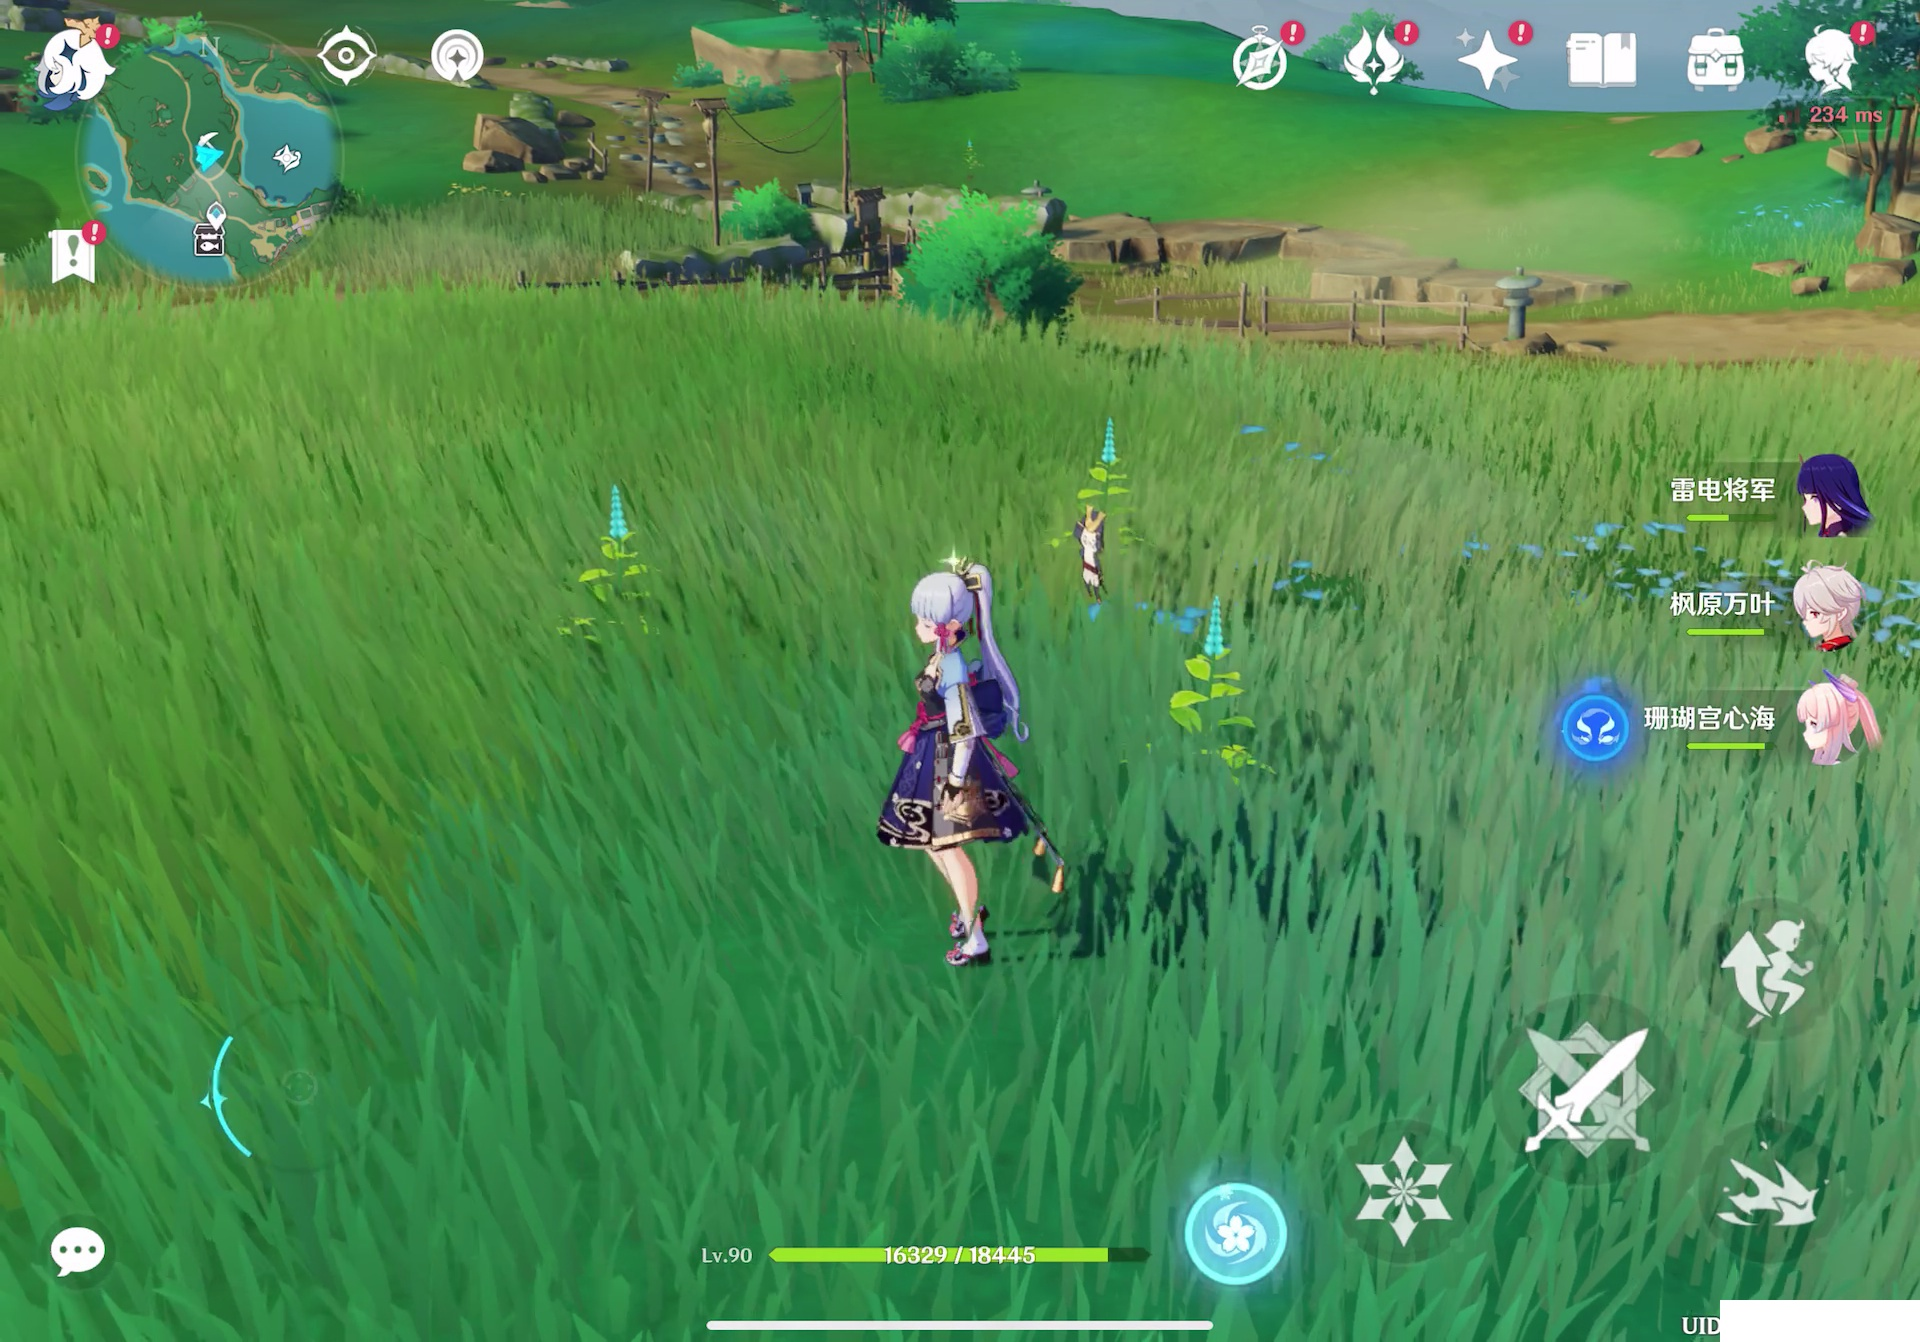没用的薄荷: (1158, 589, 1274, 788), (569, 476, 673, 643), (1065, 420, 1148, 513)
神里绫龟: (878, 543, 1080, 977)
